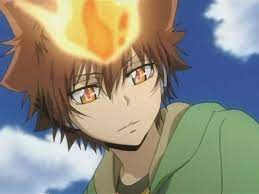Tsuna: (9, 4, 167, 149)
